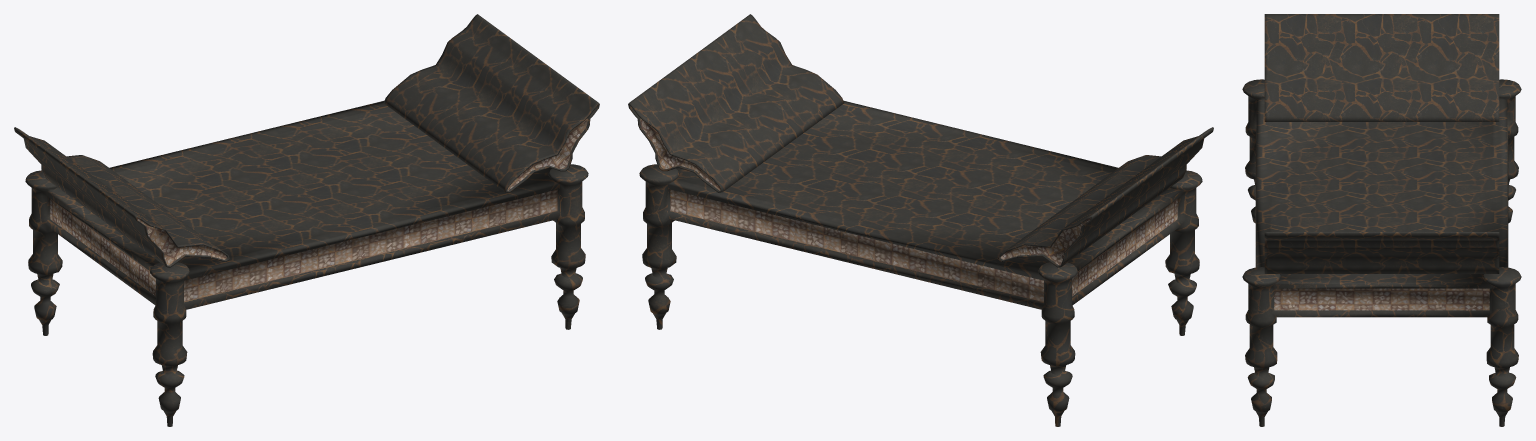
File: mdl_apa_roman_couch.gltf
3 views of the same model, side by side, from view 1: azimuth 30°, elevation 25°; view 2: azimuth 150°, elevation 25°; view 3: azimuth 270°, elevation 25° (orthographic). The views are drawn at different scales.
Parts seen in each view (by area): view 1: mdl_apa_roman_couch; view 2: mdl_apa_roman_couch; view 3: mdl_apa_roman_couch.
Part boxes in pixels (box(x1,y1,x2,y2)): mdl_apa_roman_couch: box(14, 14, 599, 426); mdl_apa_roman_couch: box(628, 14, 1213, 426); mdl_apa_roman_couch: box(1242, 14, 1521, 426).
Bounding box in the file's own units: 98.34 × 43.88 × 53.1.
Materials: 2 (2 with a texture image).
